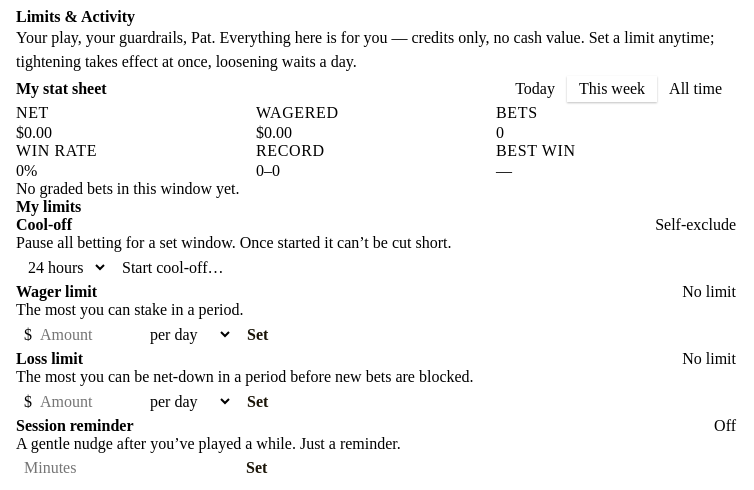
Scenario: LimitsActivitySection › a cool-off needs a confirm and then shows the active banner
Click the button "Start cool-off…": (173,268) [108, 252, 238, 282]
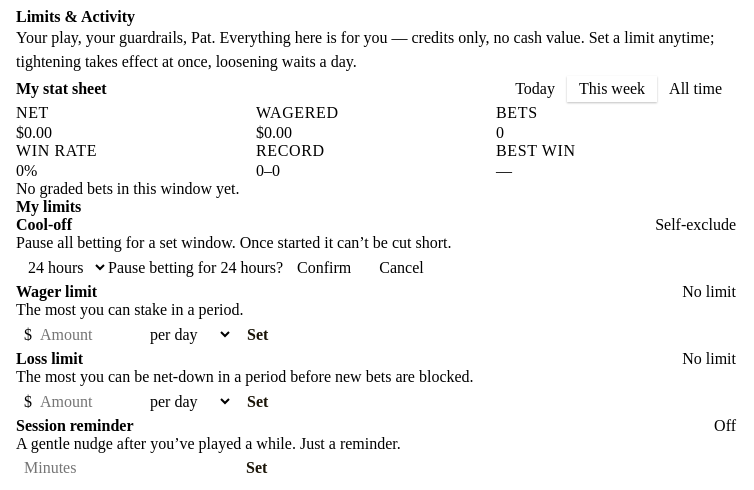
Click the button "Confirm": (324,268) [283, 252, 365, 282]
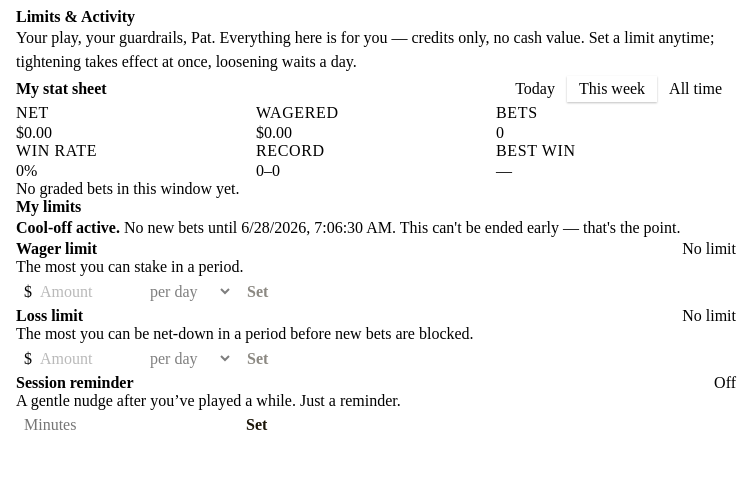
Now the text "Cool-off active" is shown, box [16, 219, 120, 236]
